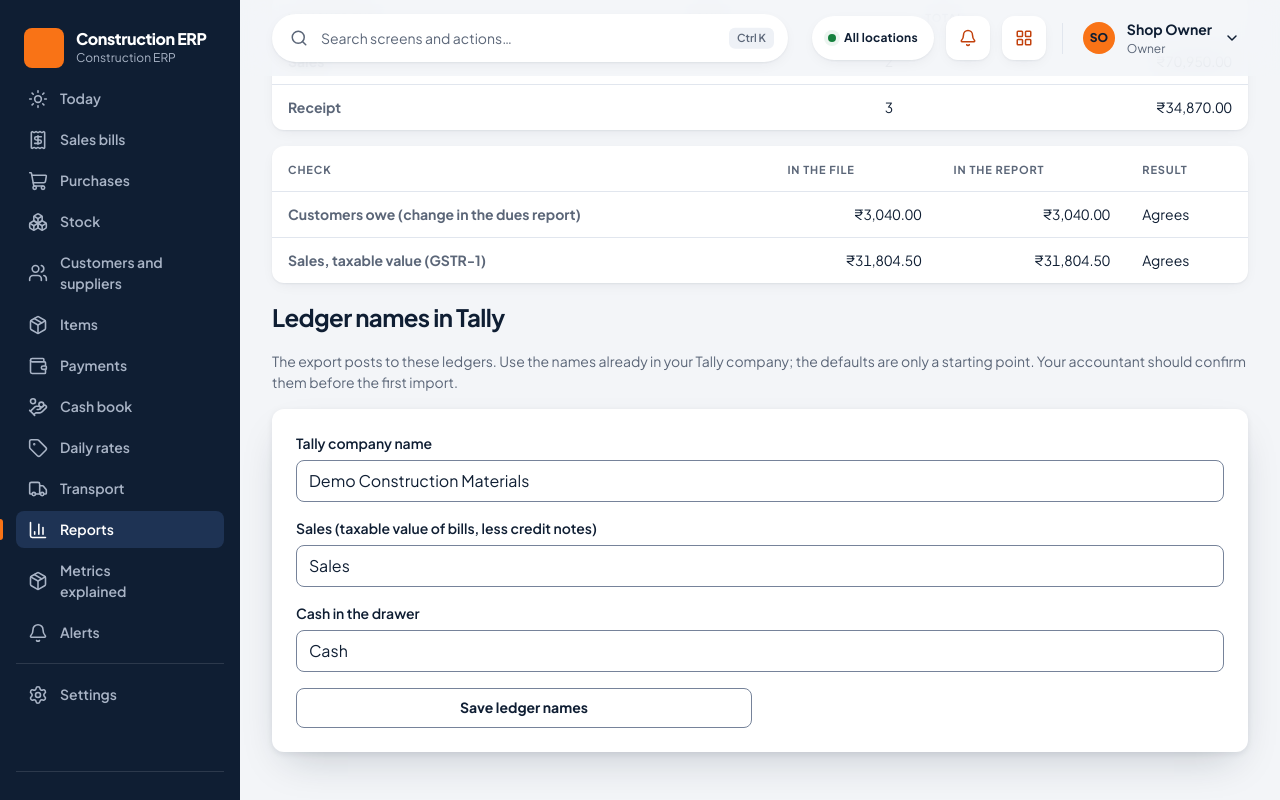
Test: Tally export › saves the ledger names the accountant types
(page scrolled)
Step 1. Replace the text in the field labelled "Sales (taxable value of bills, less credit notes)" with "Sales - Steel" → point(760, 566), box [296,544,1224,586]
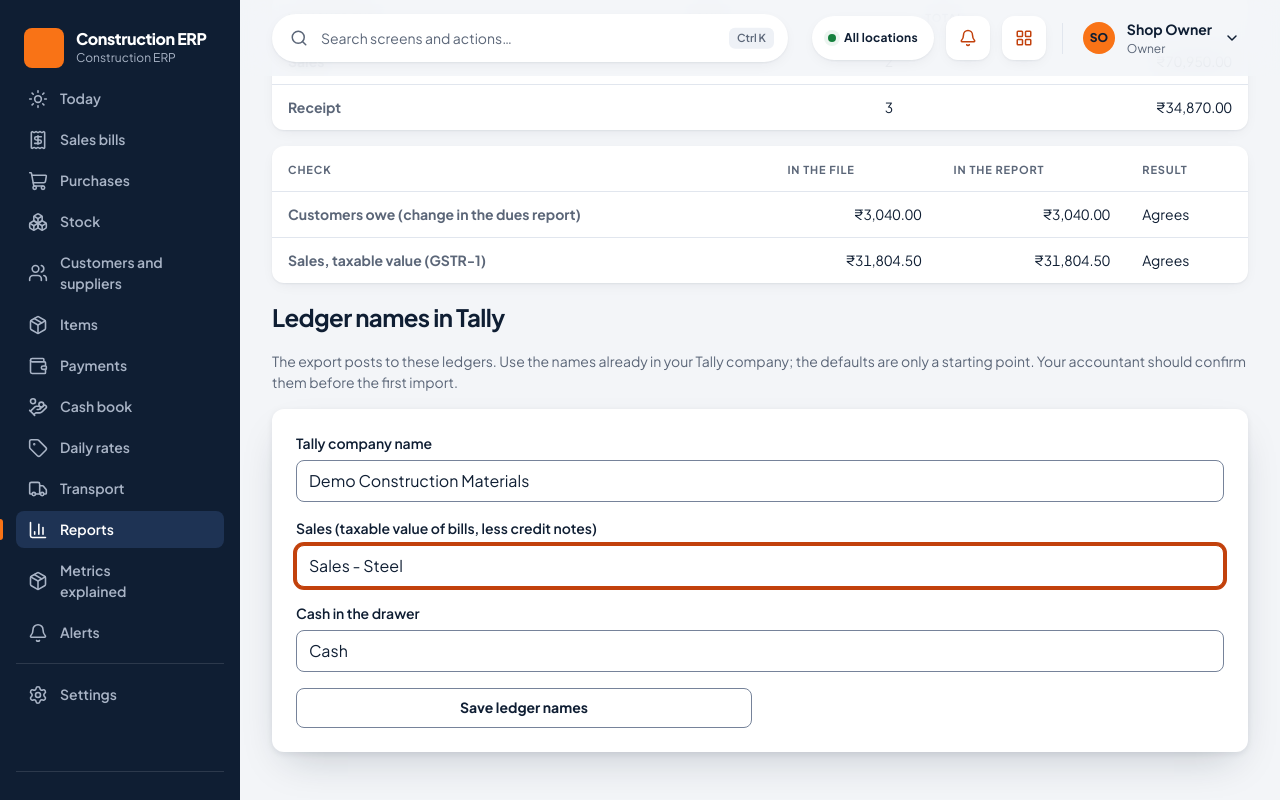
Step 2. Click the button "Save ledger names" → point(524, 708), box [296,688,752,728]
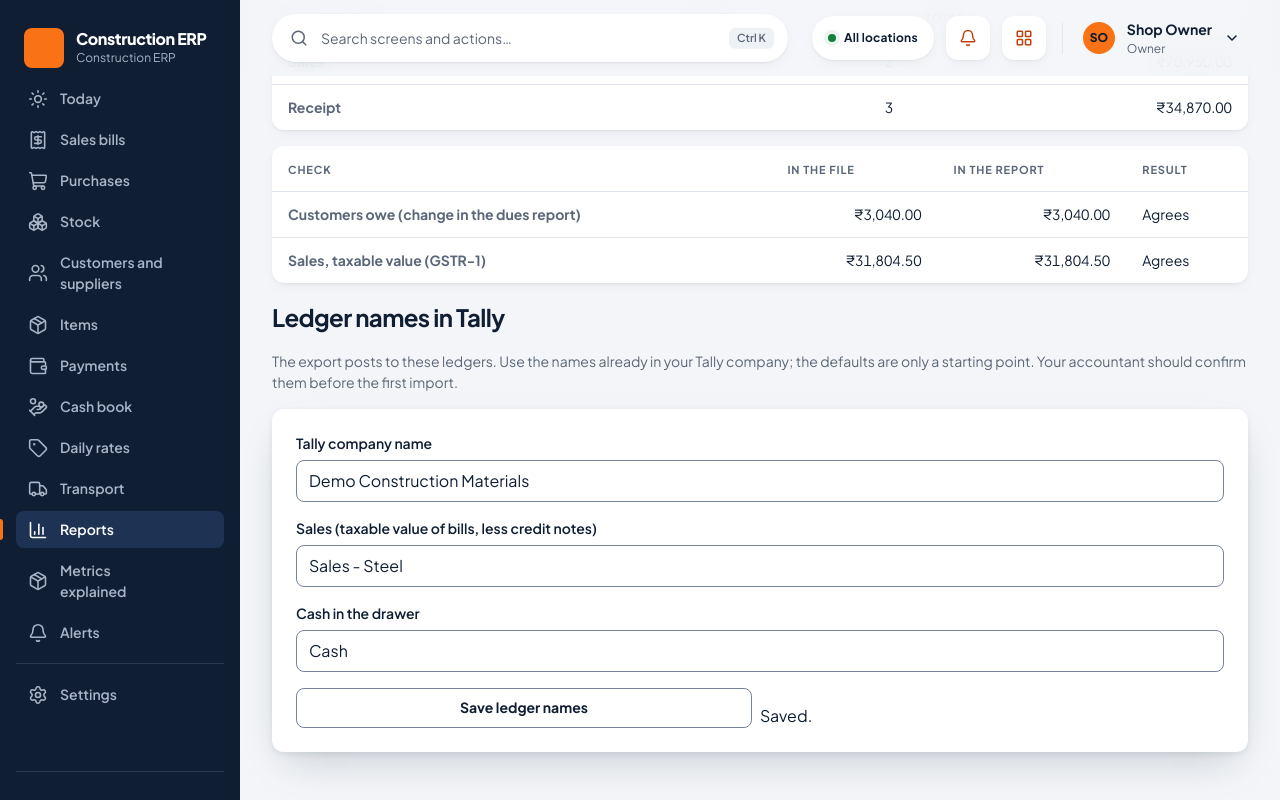
expect the text "Saved." is shown: met, box [760,704,812,726]
